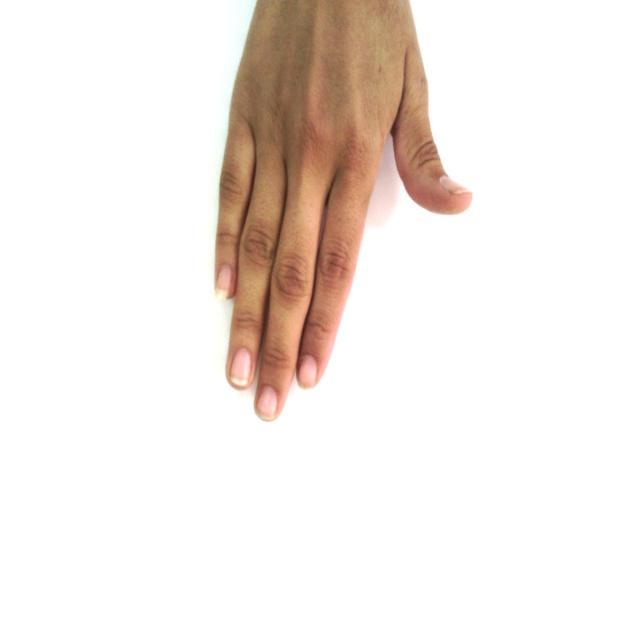Fingernail: (230, 349, 252, 386), (257, 387, 278, 420), (216, 266, 233, 300), (299, 356, 316, 388), (441, 176, 468, 194)
